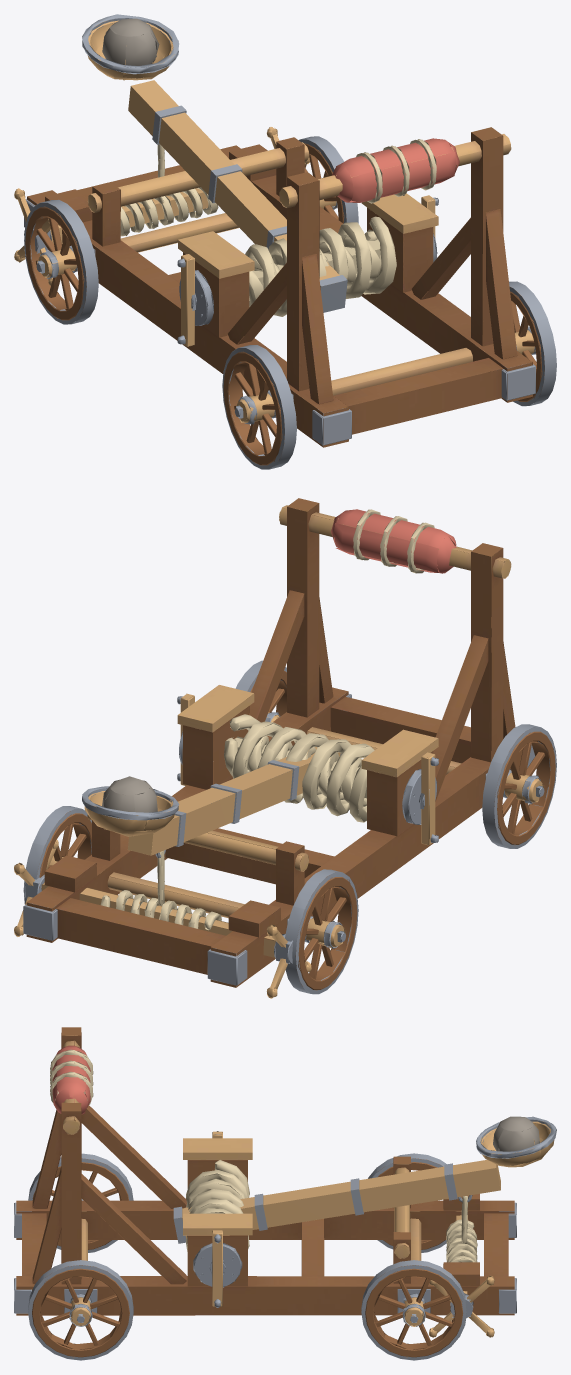
The model's file is catapulta.glb.
The picture shows the model from 3 angles, top to bottom: view 1: azimuth 30°, elevation 25°; view 2: azimuth 150°, elevation 25°; view 3: azimuth 270°, elevation 25°; orthographic projection. The views are drawn at different scales.
Parts seen in each view (by area): view 1: catapult_arm; view 2: catapult_arm; view 3: catapult_arm.
Boxes of the visible parts, bbox=[...] form: catapult_arm: bbox=[14, 14, 556, 469]; catapult_arm: bbox=[14, 498, 556, 998]; catapult_arm: bbox=[14, 1027, 556, 1360].
Bounding box in the file's own units: 2.49 × 2.25 × 4.56.
7 materials, 1 textured.
